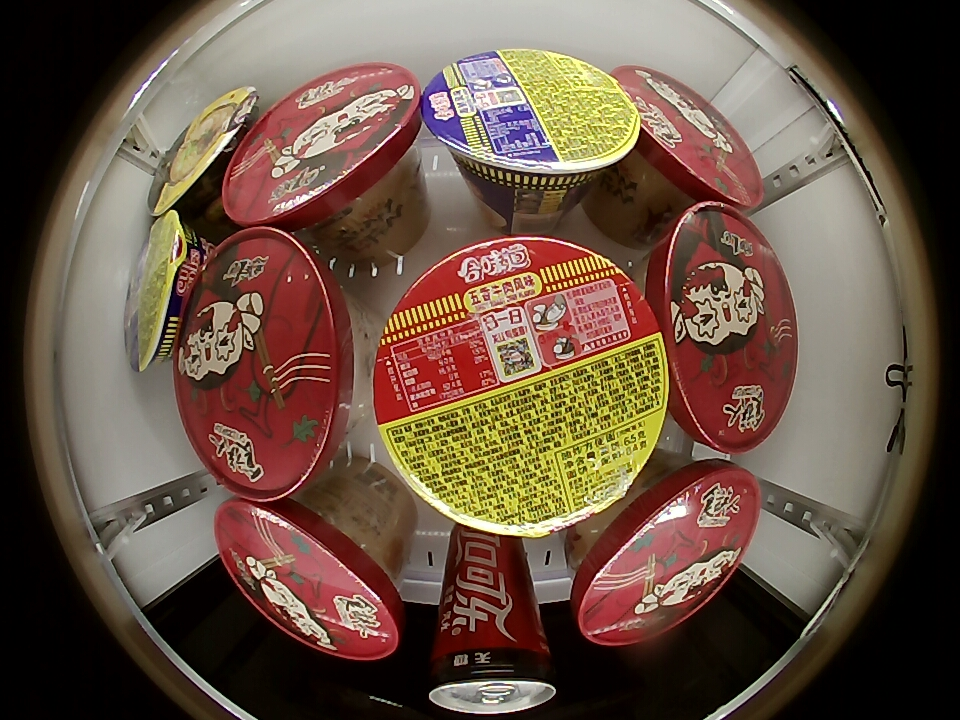heweidao: (421, 48, 640, 197), (123, 209, 206, 374)
heweidao3: (372, 234, 669, 540)
lingdukele: (428, 634, 557, 714)
suanlafen: (174, 228, 367, 501), (648, 203, 799, 455), (571, 459, 761, 646), (221, 63, 423, 232), (214, 495, 405, 660), (616, 65, 761, 209)
tangdaren2: (146, 85, 260, 221)
